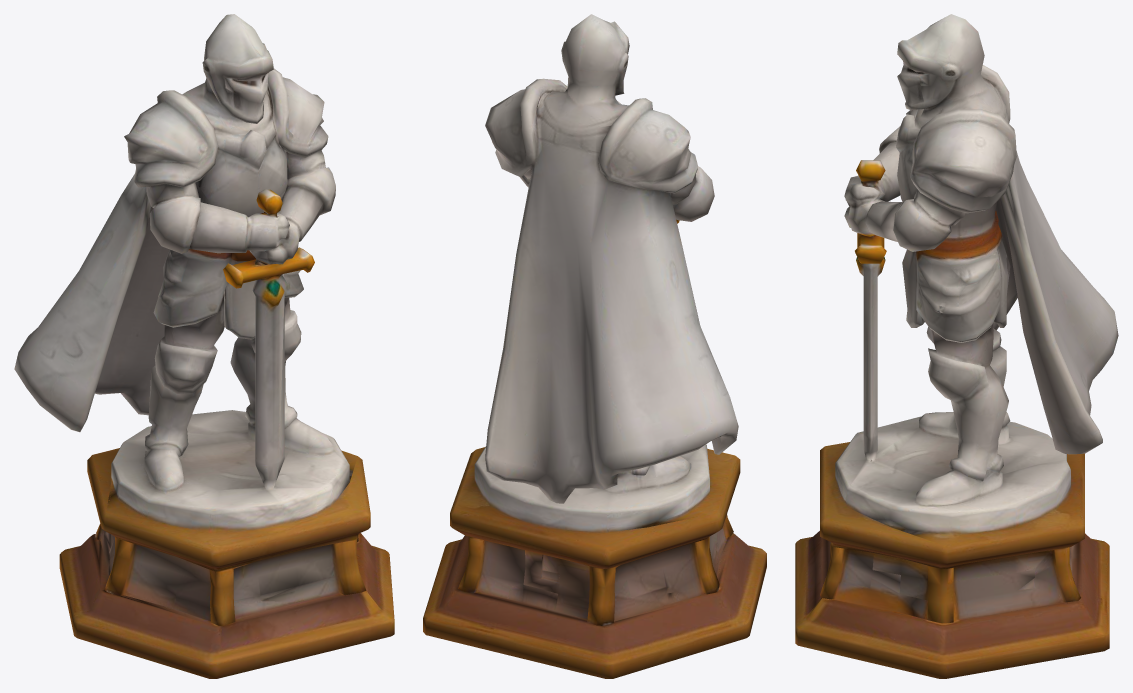
3 views of the same model, side by side, from view 1: azimuth 30°, elevation 25°; view 2: azimuth 150°, elevation 25°; view 3: azimuth 270°, elevation 25° (orthographic).
Parts seen in each view (by area): view 1: tripo_node_78f5acb6-c8b9-46cd-847f-a675aeab19df; view 2: tripo_node_78f5acb6-c8b9-46cd-847f-a675aeab19df; view 3: tripo_node_78f5acb6-c8b9-46cd-847f-a675aeab19df.
Boxes of the visible parts, <box> form: tripo_node_78f5acb6-c8b9-46cd-847f-a675aeab19df: <box>14,14,394,678</box>; tripo_node_78f5acb6-c8b9-46cd-847f-a675aeab19df: <box>423,14,766,678</box>; tripo_node_78f5acb6-c8b9-46cd-847f-a675aeab19df: <box>795,14,1118,678</box>.
Bounding box in the file's own units: 0.5773 × 1 × 0.4912.
Materials: 1 (1 with a texture image).
